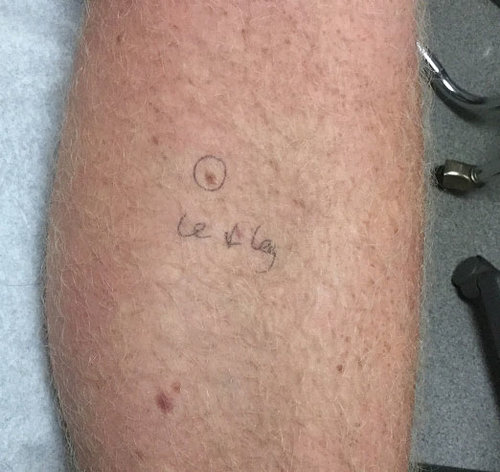melanoma: (125, 345, 224, 432)
